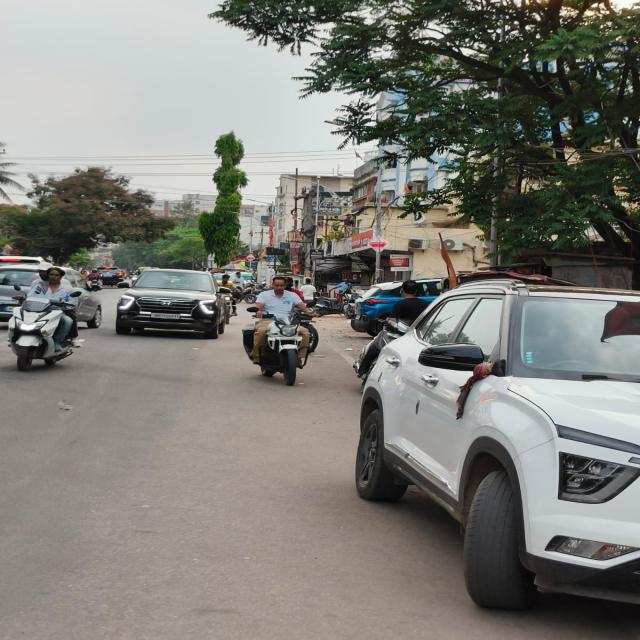bike: (250, 308, 325, 392), (11, 292, 81, 376)
car: (356, 274, 640, 630), (115, 259, 227, 348)
